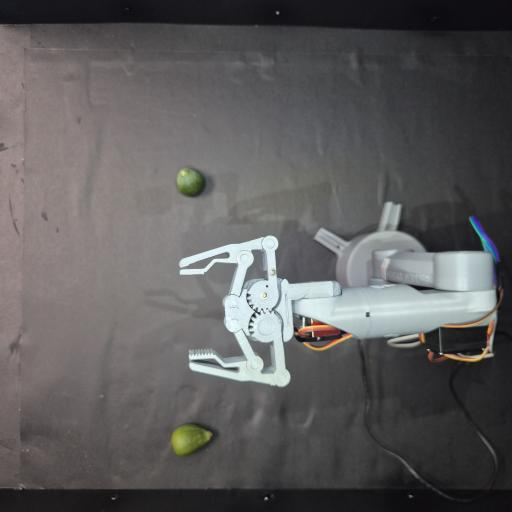higo: (171, 424, 212, 456), (176, 168, 205, 196)
